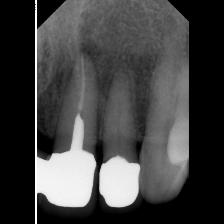apical_lesion: (40, 27, 111, 219)
